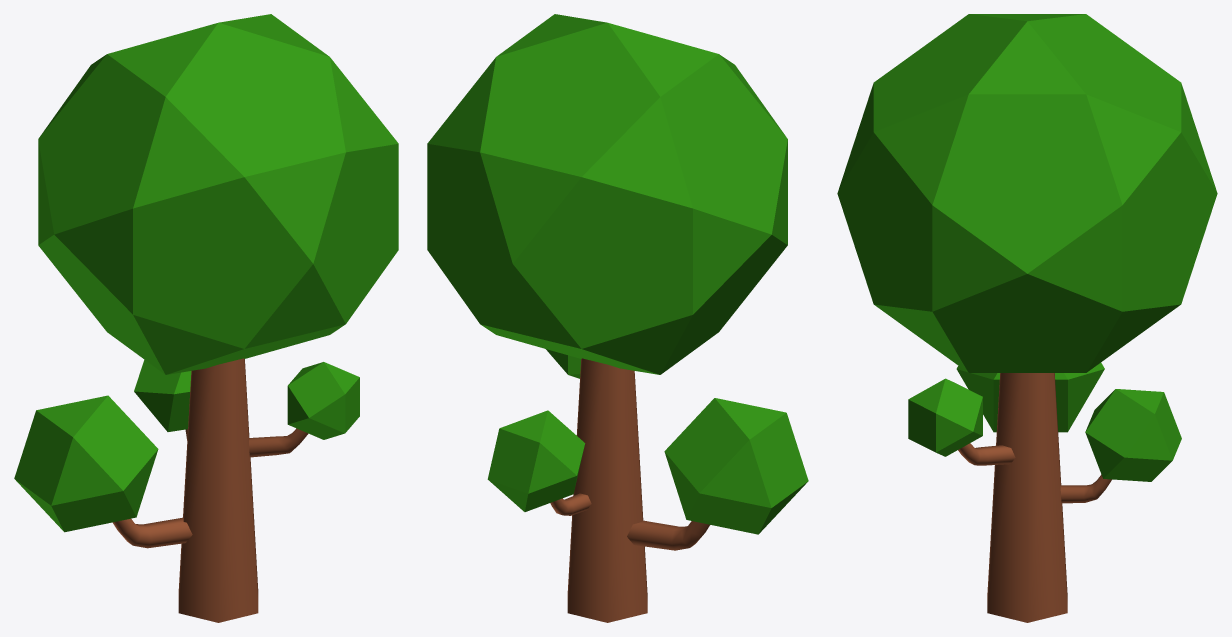
File: Tree.FBX
3 views of the same model, side by side, from view 1: azimuth 30°, elevation 25°; view 2: azimuth 150°, elevation 25°; view 3: azimuth 270°, elevation 25° (orthographic).
Parts seen in each view (by area): view 1: Cylinder277; view 2: Cylinder277; view 3: Cylinder277.
Boxes of the visible parts, left/top/right/bottom form: Cylinder277: left=14, top=14, right=398, bottom=622; Cylinder277: left=427, top=14, right=808, bottom=622; Cylinder277: left=837, top=14, right=1217, bottom=622.
Bounding box in the file's own units: 3.62 × 5.76 × 3.41.
